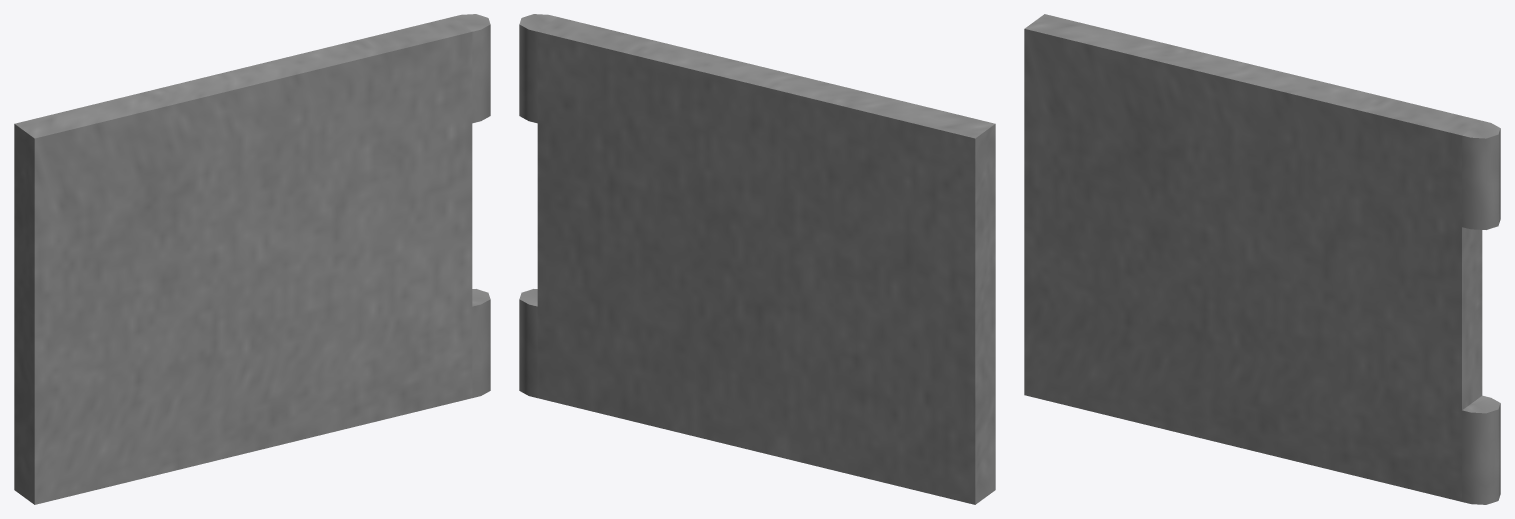
File: morgueBedDoor.glb
3 renders of one model, left to right at view 1: azimuth 30°, elevation 25°; view 2: azimuth 150°, elevation 25°; view 3: azimuth 330°, elevation 25°, orthographic.
Parts seen in each view (by area): view 1: morgueBodyDoor; view 2: morgueBodyDoor; view 3: morgueBodyDoor.
Boxes of the visible parts, bbox=[...] form: morgueBodyDoor: bbox=[14, 14, 490, 504]; morgueBodyDoor: bbox=[519, 14, 995, 504]; morgueBodyDoor: bbox=[1024, 14, 1500, 504].
Bounding box in the file's own units: 2.65 × 2 × 0.2.
Materials: 1 (1 with a texture image).
